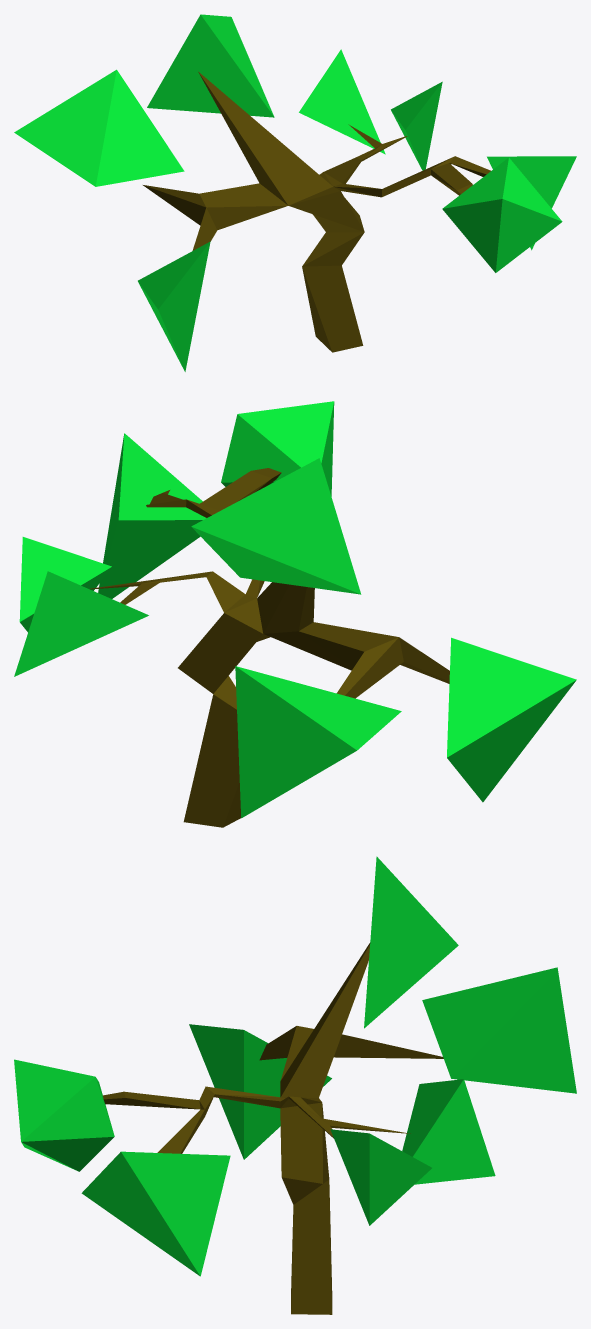
The model's file is Tree3.fbx.
3 renders of one model, top to bottom at view 1: azimuth 30°, elevation 25°; view 2: azimuth 150°, elevation 25°; view 3: azimuth 270°, elevation 25°, orthographic. The views are drawn at different scales.
Parts seen in each view (by area): view 1: Cube.001, Icosphere.001, Icosphere.003, Icosphere.008, Icosphere, Icosphere.004, Icosphere.005, Icosphere.006; view 2: Cube.001, Icosphere.001, Icosphere.003, Icosphere, Icosphere.006, Icosphere.008, Icosphere.004, Icosphere.005; view 3: Cube.001, Icosphere.001, Icosphere.006, Icosphere.008, Icosphere.003, Icosphere, Icosphere.004, Icosphere.005.
Part boxes in pixels (x1=…): Cube.001: x1=143, y1=71, x2=490, y2=352; Icosphere.001: x1=14, y1=69, x2=184, y2=186; Icosphere.003: x1=147, y1=14, x2=274, y2=117; Icosphere.008: x1=442, y1=157, x2=562, y2=272; Icosphere: x1=138, y1=241, x2=210, y2=371; Icosphere.004: x1=299, y1=49, x2=385, y2=154; Icosphere.005: x1=391, y1=81, x2=442, y2=170; Icosphere.006: x1=487, y1=156, x2=576, y2=250; Cube.001: x1=89, y1=468, x2=449, y2=827; Icosphere.001: x1=235, y1=666, x2=401, y2=818; Icosphere.003: x1=191, y1=458, x2=361, y2=594; Icosphere: x1=447, y1=637, x2=576, y2=802; Icosphere.006: x1=98, y1=433, x2=206, y2=598; Icosphere.008: x1=221, y1=401, x2=334, y2=496; Icosphere.004: x1=14, y1=571, x2=148, y2=676; Icosphere.005: x1=19, y1=537, x2=111, y2=632; Cube.001: x1=102, y1=942, x2=443, y2=1314; Icosphere.001: x1=422, y1=967, x2=576, y2=1093; Icosphere.006: x1=81, y1=1151, x2=230, y2=1276; Icosphere.008: x1=14, y1=1059, x2=114, y2=1171; Icosphere.003: x1=364, y1=856, x2=458, y2=1028; Icosphere: x1=189, y1=1024, x2=331, y2=1159; Icosphere.004: x1=402, y1=1079, x2=495, y2=1184; Icosphere.005: x1=330, y1=1129, x2=431, y2=1225.
Size of the model in its own units: 378 by 311 by 410.
